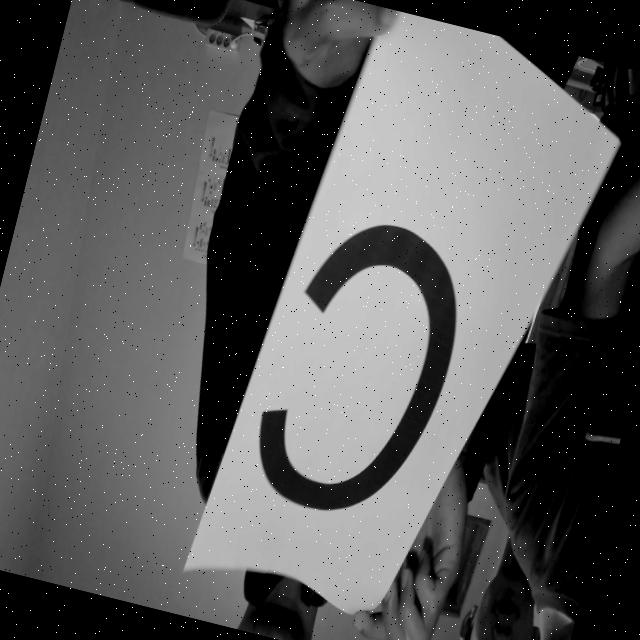c: (222, 177, 494, 568)
